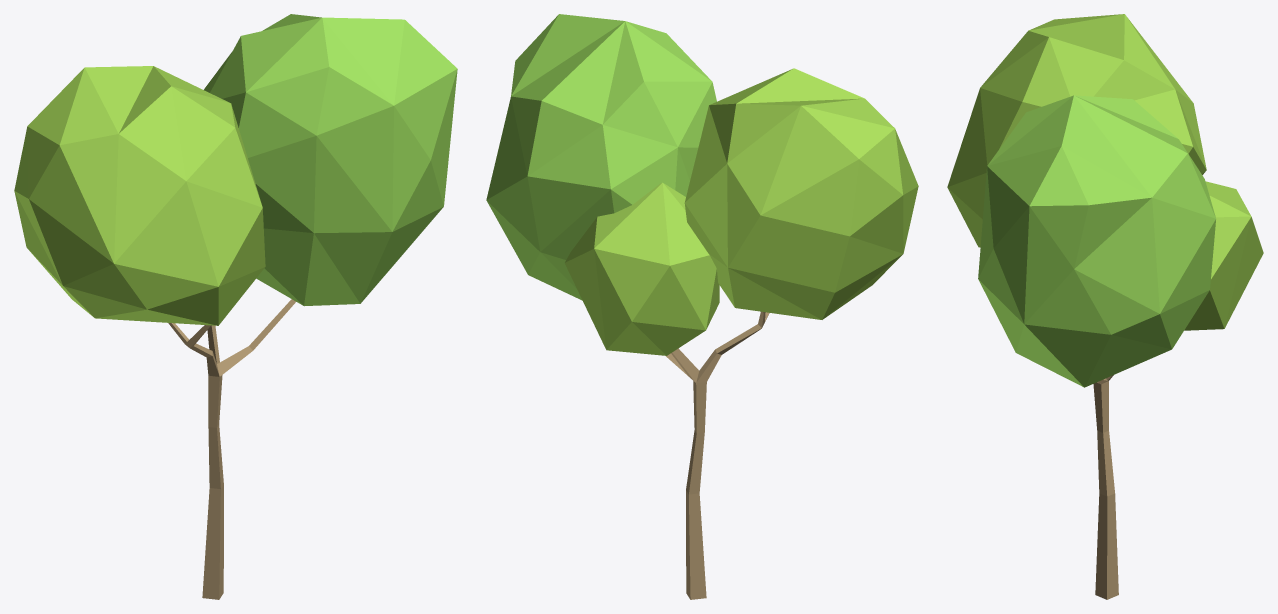
Rendered from Apple_Tree_s_03_LOD.fbx.
3 views of the same model, side by side, from view 1: azimuth 30°, elevation 25°; view 2: azimuth 150°, elevation 25°; view 3: azimuth 270°, elevation 25° (orthographic). The views are drawn at different scales.
Parts seen in each view (by area): view 1: Apple_Tree_s_03_LOD0; view 2: Apple_Tree_s_03_LOD0; view 3: Apple_Tree_s_03_LOD0.
Part boxes in pixels (left/top/right/bottom): Apple_Tree_s_03_LOD0: left=14, top=14, right=457, bottom=599; Apple_Tree_s_03_LOD0: left=486, top=14, right=918, bottom=599; Apple_Tree_s_03_LOD0: left=947, top=14, right=1263, bottom=599.
Size of what is drawn, in the model's own units: 227 by 304 by 161.
